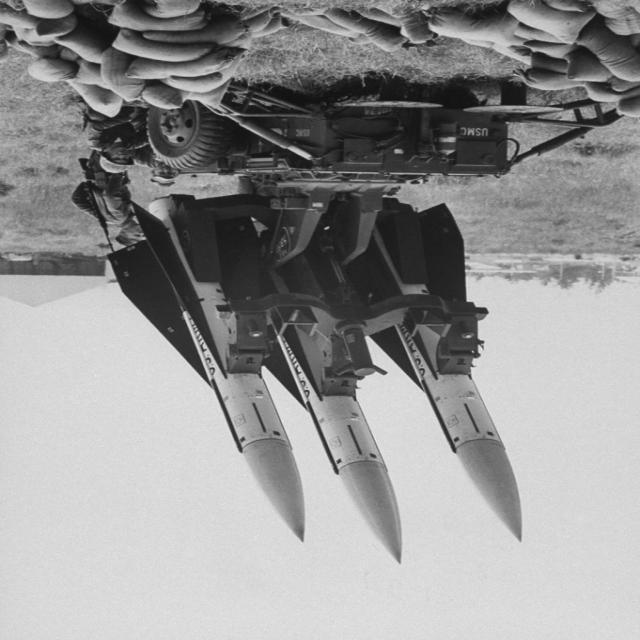Missile: (203, 366, 311, 542), (418, 362, 522, 544), (302, 392, 404, 566)
